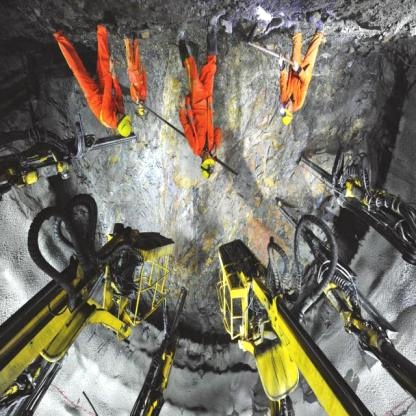vest: (183, 101, 218, 158), (86, 82, 118, 132), (278, 70, 310, 112)
yellow: (197, 157, 216, 181), (115, 113, 132, 139), (278, 107, 293, 126)
